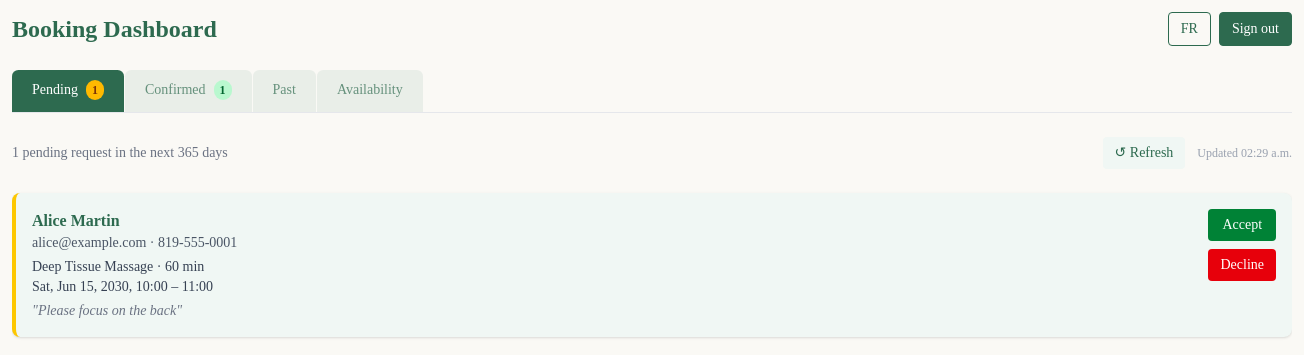
Test: AdminDashboard › confirmed card shows client name, service, and Cancel Booking button
This screenshot has width=1304, height=355.
Click the button with test id "tab-confirmed". click: [188, 91]
box: [125, 70, 252, 112]
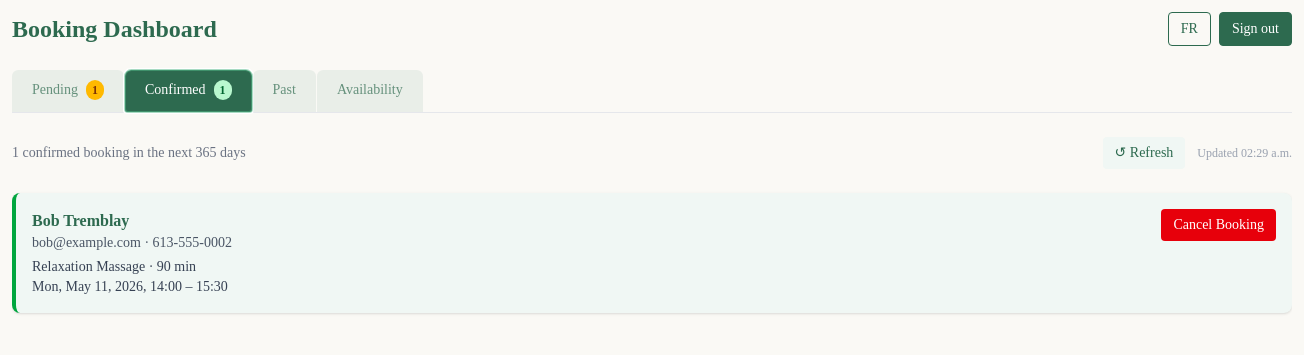
Expected: the text "Bob Tremblay" is shown, [32, 212, 129, 229]
Expected: the text "Relaxation Massage · 90 min" is shown, [32, 259, 196, 274]
Expected: the button "Cancel Booking" is shown, [1161, 209, 1276, 241]
